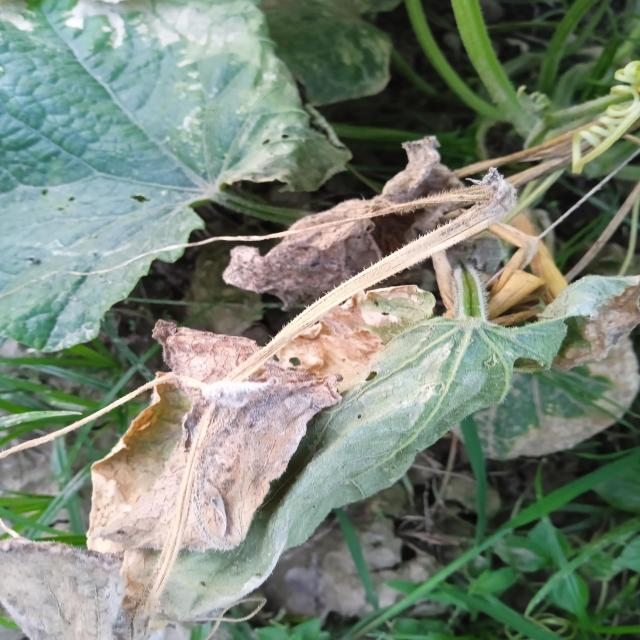cucumber_bacterial: (19, 4, 308, 296), (102, 357, 312, 596), (428, 292, 640, 457), (225, 186, 390, 328)
